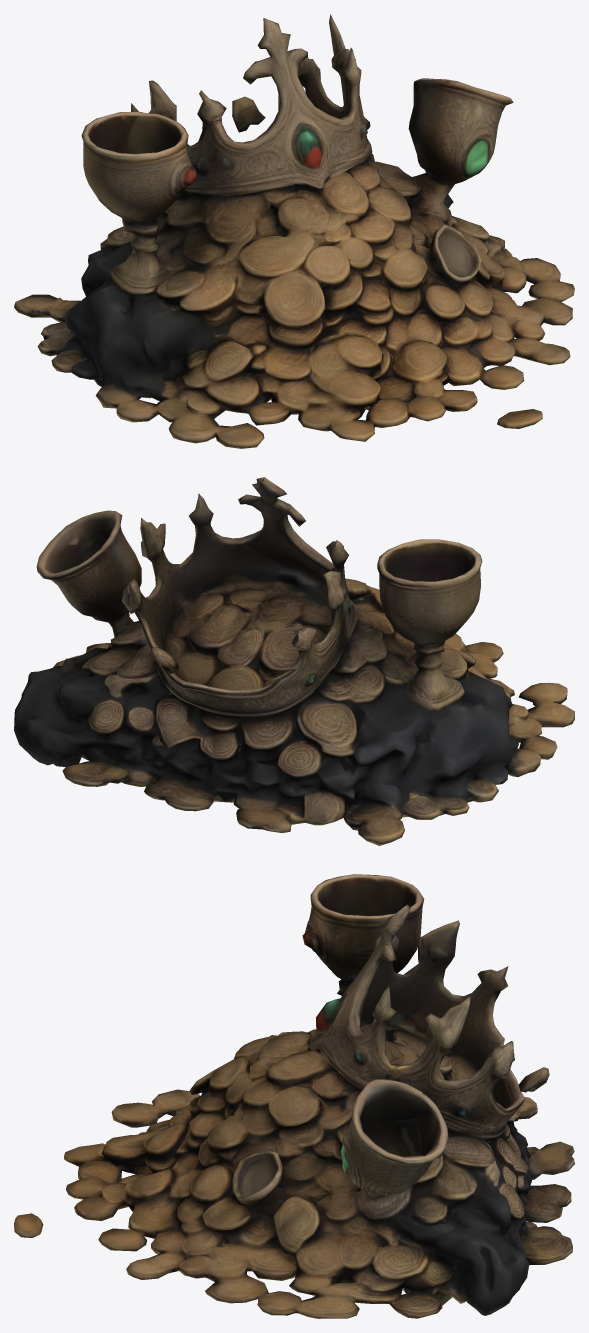
The model's file is treasure_pile.glb.
The picture shows the model from 3 angles, top to bottom: view 1: azimuth 30°, elevation 25°; view 2: azimuth 150°, elevation 25°; view 3: azimuth 270°, elevation 25°; orthographic projection. The views are drawn at different scales.
Bounding box in the file's own units: 2 × 1.24 × 2.
Materials: 1 (1 with a texture image).
